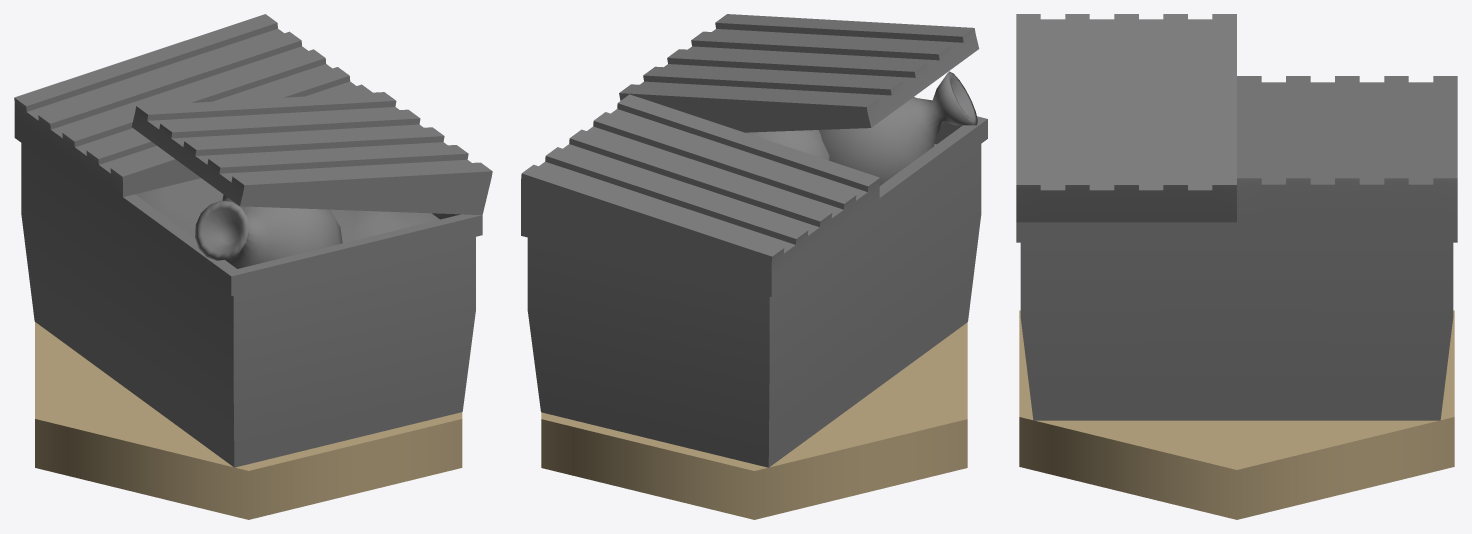
Rendered from HexDump.fbx.
The picture shows the model from 3 angles, left to right: view 1: azimuth 30°, elevation 25°; view 2: azimuth 150°, elevation 25°; view 3: azimuth 270°, elevation 25°; orthographic projection. The views are drawn at different scales.
Parts seen in each view (by area): view 1: Dump, Hex; view 2: Dump, Hex; view 3: Dump, Hex.
Part boxes in pixels (left/top/right/bottom): Dump: left=14, top=14, right=492, bottom=467; Hex: left=35, top=322, right=462, bottom=519; Dump: left=521, top=14, right=987, bottom=467; Hex: left=541, top=322, right=967, bottom=519; Dump: left=1016, top=14, right=1457, bottom=420; Hex: left=1019, top=310, right=1454, bottom=519.
Size of the model in its own units: 4.56 by 3.44 by 4.01.
